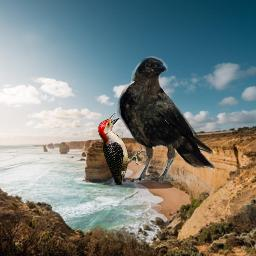Crow: (117, 56, 216, 183)
Woodpecker: (98, 112, 146, 185)
